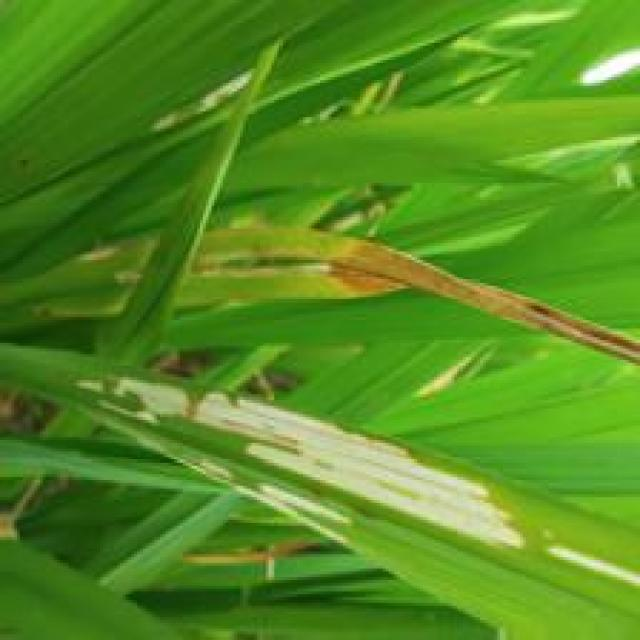Rice_Hispa: (87, 378, 522, 543)
